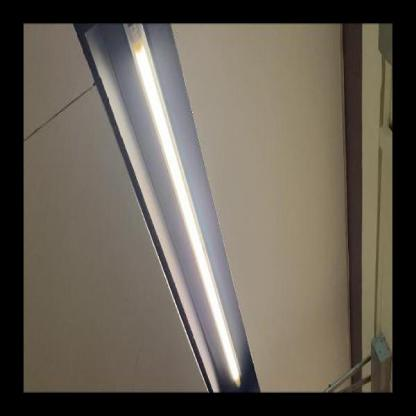light_on: (122, 24, 246, 392)
